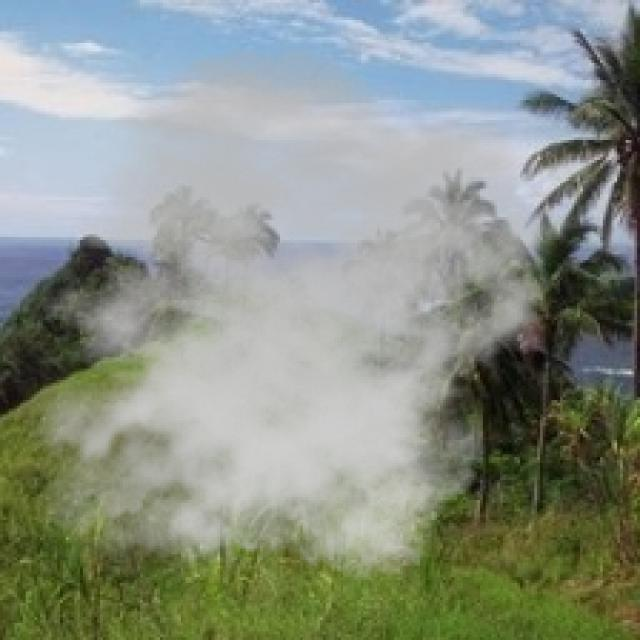smoke: (3, 46, 568, 597)
